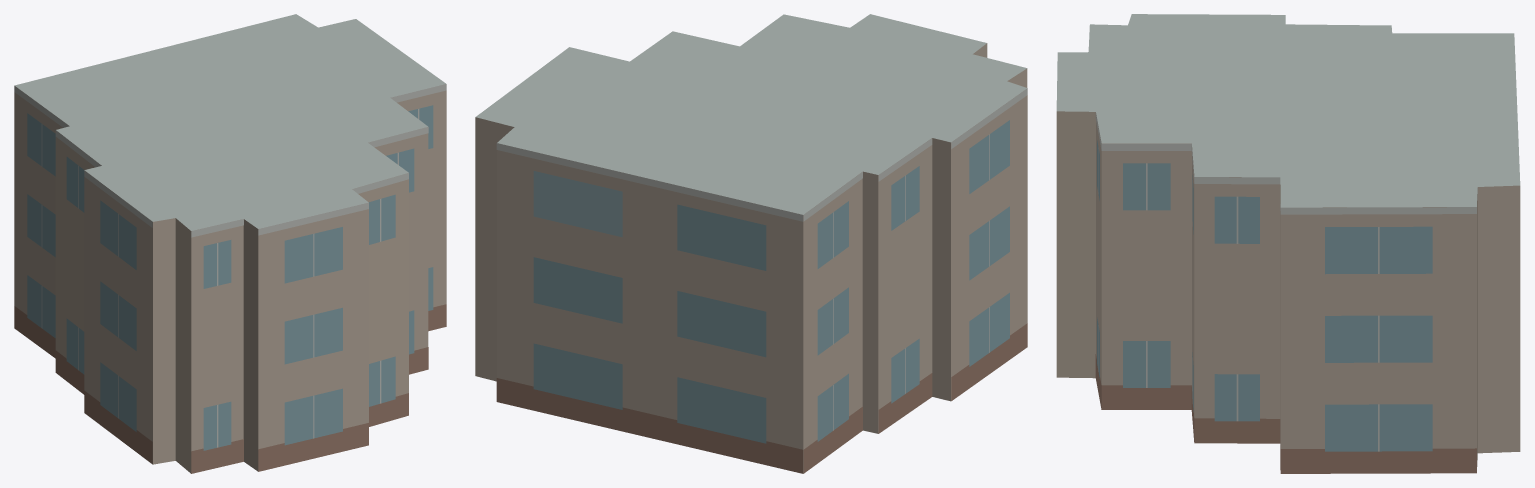
The model's file is survey-upis-32595439.glb.
3 views of the same model, side by side, from view 1: azimuth 30°, elevation 25°; view 2: azimuth 150°, elevation 25°; view 3: azimuth 270°, elevation 25° (orthographic). The views are drawn at different scales.
Visible parts, largest first — view 1: survey-upis-32595439.tmp; view 2: survey-upis-32595439.tmp; view 3: survey-upis-32595439.tmp.
Boxes of the visible parts, <box> form: survey-upis-32595439.tmp: <box>14,14,446,473</box>; survey-upis-32595439.tmp: <box>475,14,1027,473</box>; survey-upis-32595439.tmp: <box>1056,14,1520,473</box>.
Size of the model in its own units: 14.28 by 9.15 by 14.45.
